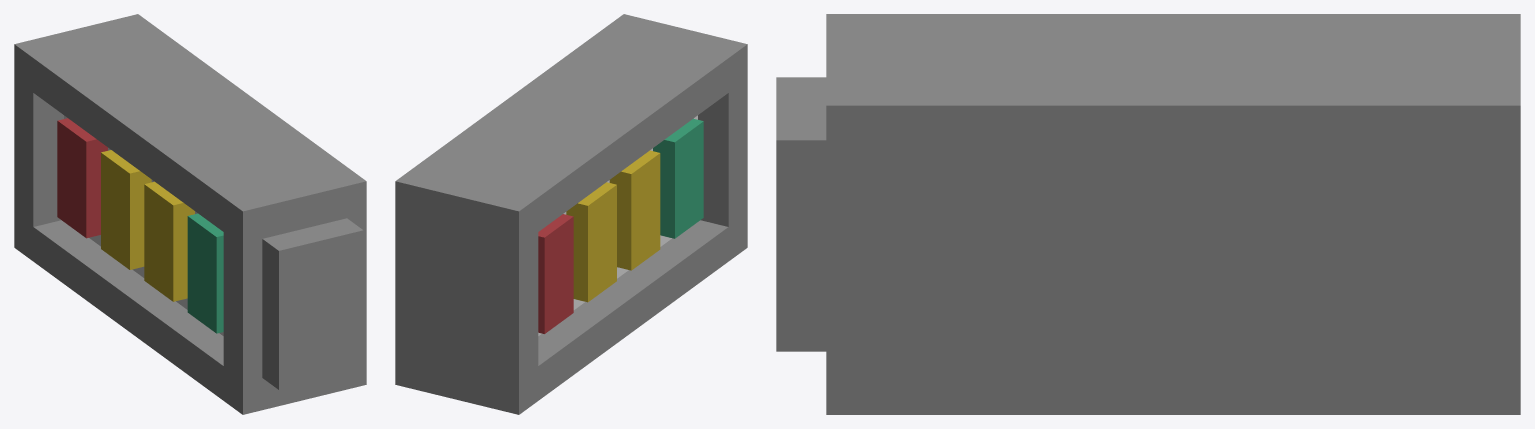
The model's file is Battery.glb.
The picture shows the model from 3 angles, left to right: view 1: azimuth 30°, elevation 25°; view 2: azimuth 150°, elevation 25°; view 3: azimuth 270°, elevation 25°; orthographic projection. The views are drawn at different scales.
Visible parts, largest first — view 1: Battery; view 2: Battery; view 3: Battery.
Boxes of the visible parts, x1=… form: Battery: x1=14, y1=14, x2=366, y2=414; Battery: x1=395, y1=14, x2=747, y2=414; Battery: x1=776, y1=14, x2=1520, y2=414.
Size of the model in its own units: 184 by 289 by 631.
